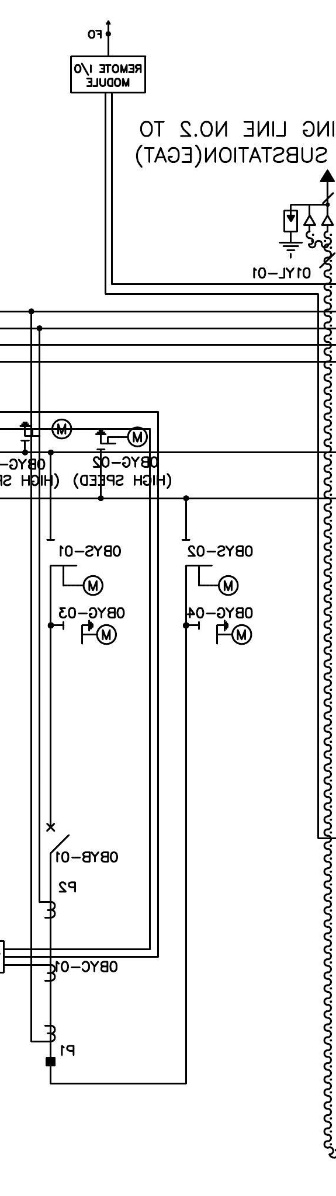115_1way_ds_w_motor: (45, 539, 104, 596), (181, 539, 239, 596)
115_breaker: (46, 822, 70, 854)
115_gs_w_motor: (198, 619, 253, 645), (62, 619, 117, 645), (94, 426, 148, 450), (19, 418, 72, 442)
115_la: (278, 209, 303, 259)
remote_io_module: (70, 55, 146, 94)
terminator_double: (302, 203, 335, 227)
